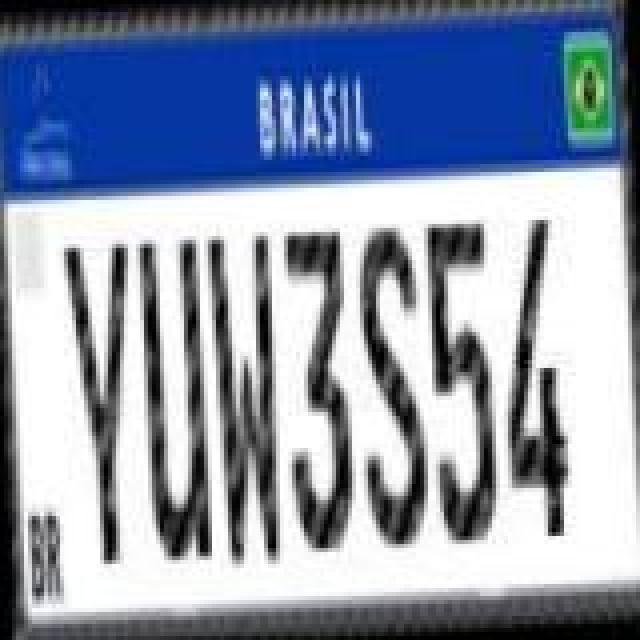3: (278, 222, 358, 558)
4: (496, 210, 572, 542)
5: (424, 220, 500, 556)
S: (354, 220, 434, 556)
U: (140, 234, 216, 566)
W: (210, 232, 290, 568)
Y: (64, 240, 148, 568)
